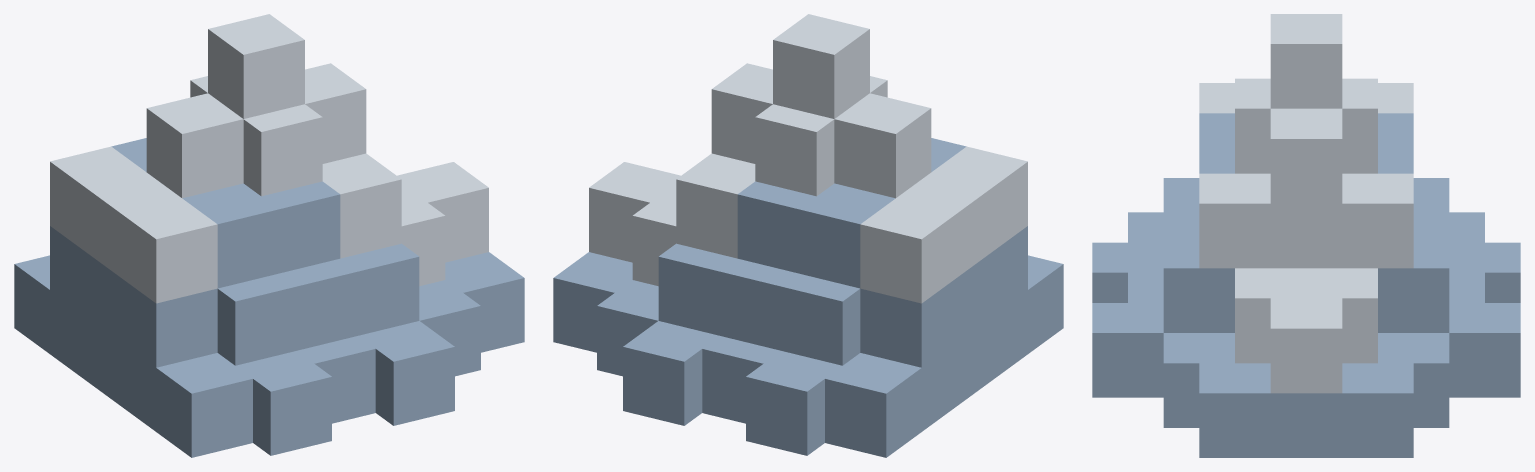
File: stone-with-snow-02.obj
3 views of the same model, side by side, from view 1: azimuth 30°, elevation 25°; view 2: azimuth 150°, elevation 25°; view 3: azimuth 270°, elevation 25° (orthographic).
Bounding box in the file's own units: 6 × 5 × 6.
1 material, 1 textured.
